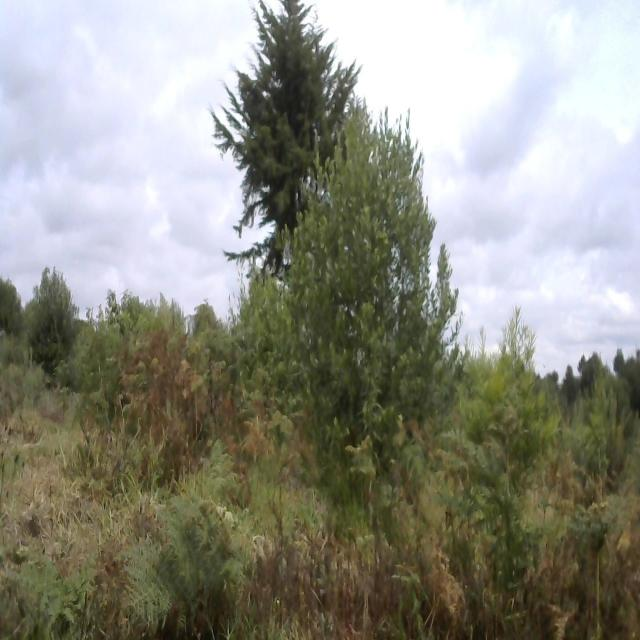Juniperus procesera: (209, 0, 362, 253), (21, 272, 80, 377)
Olea europea -africana-: (271, 100, 468, 488)
Podocarpus falcatus: (467, 299, 553, 459)
